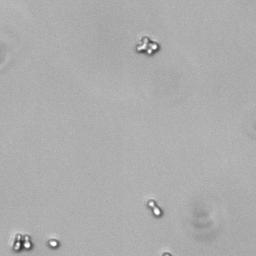cluster: (134, 31, 161, 57), (141, 194, 168, 220), (9, 230, 34, 253)
individual: (46, 235, 60, 251)
